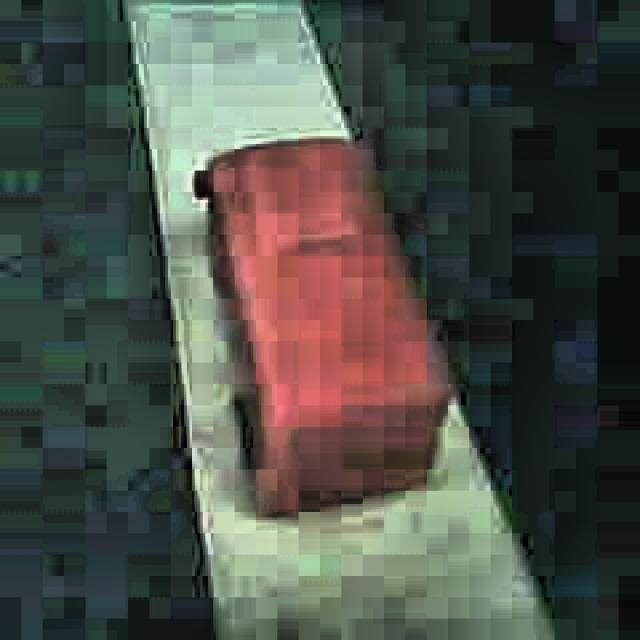bus: (190, 134, 454, 522)
